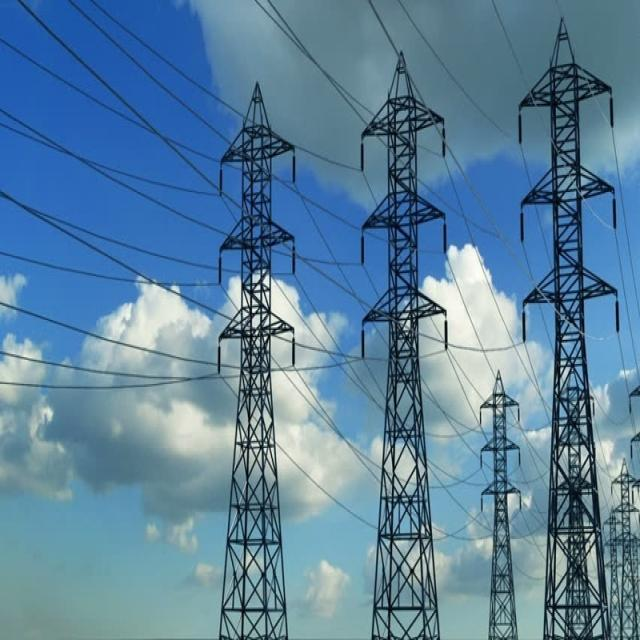non-critical vegetation: (522, 28, 616, 634), (356, 62, 442, 633), (211, 70, 288, 628), (468, 360, 531, 630)
